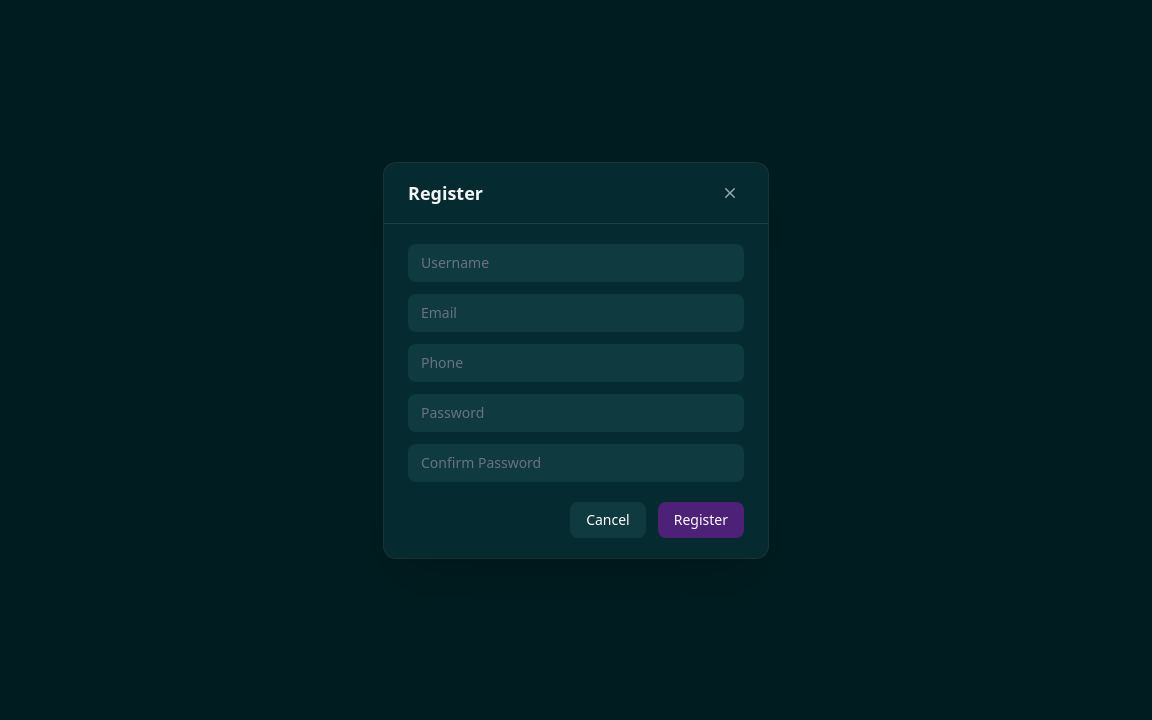
Test: RegisterDialog › shows a fallback error instead of crashing on a bare 500 (no JSON body)
Type "newuser" into the field with placeholder "Username" at (576, 262), box [408,244,744,282]
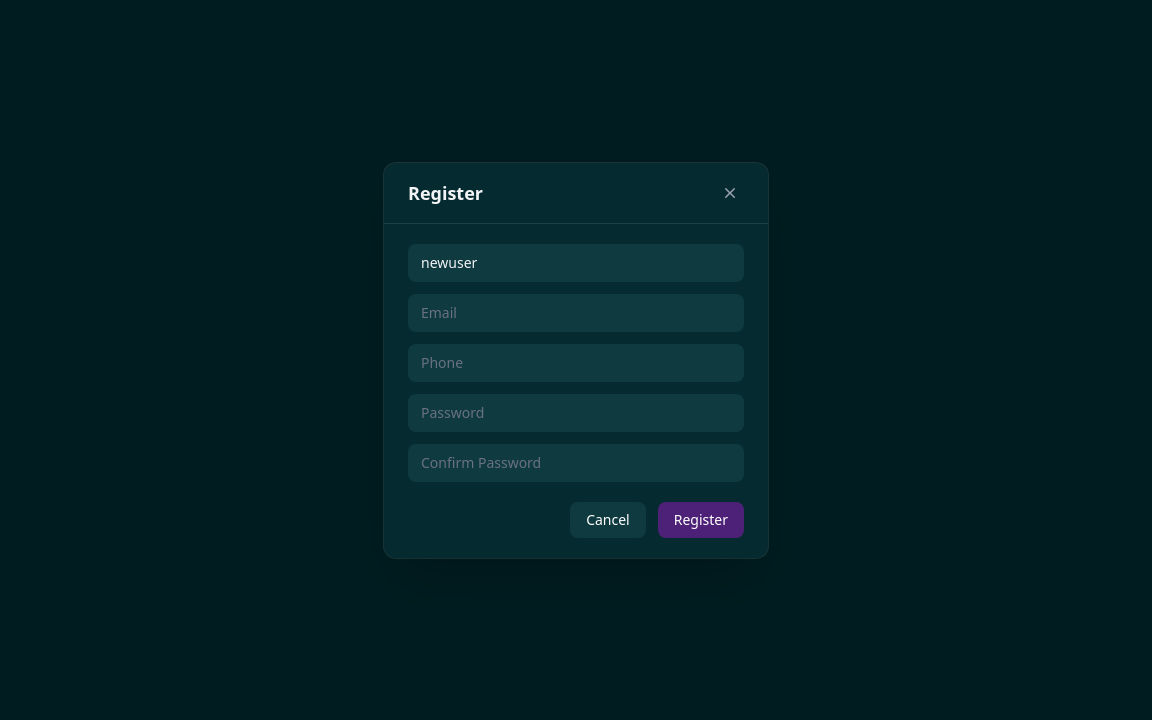
Type "pass1" into the password field with placeholder "Password" at (576, 412), box [408,394,744,432]
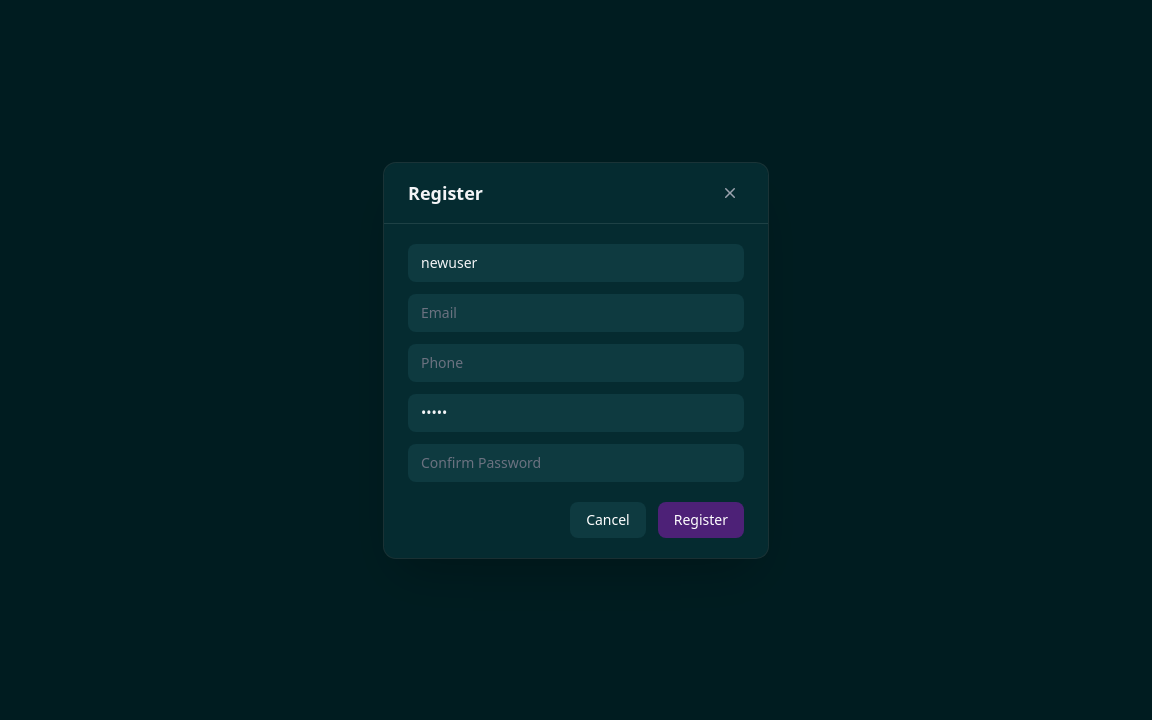
Type "pass1" into the password field with placeholder "Confirm Password" at (576, 462), box [408,444,744,482]
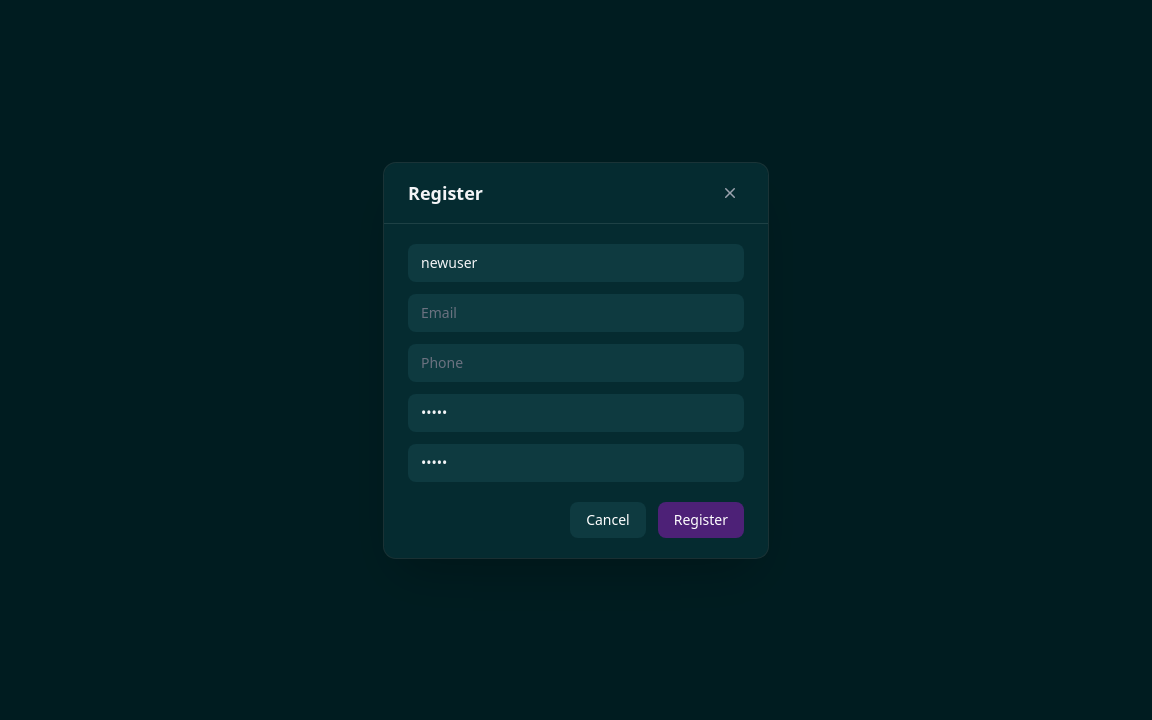
Click the button "Register" at (701, 520), box [658,502,744,538]
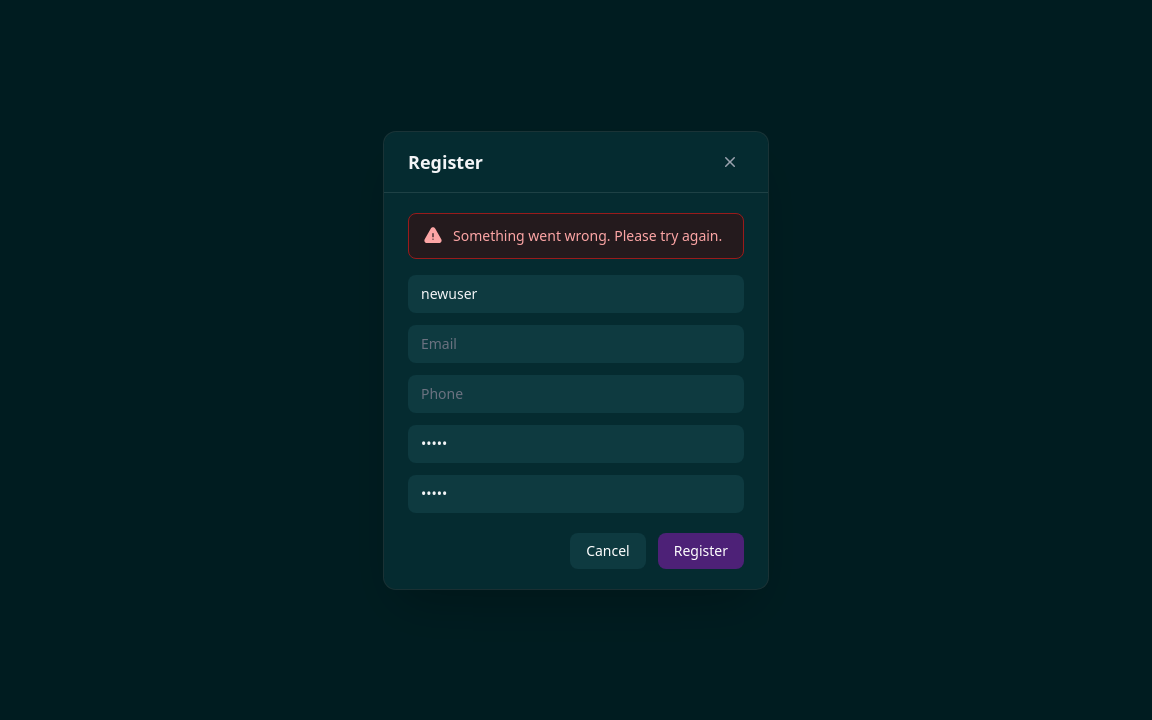
Result: the text "Something went wrong. Please try again." is shown at [453,226,722,246]
